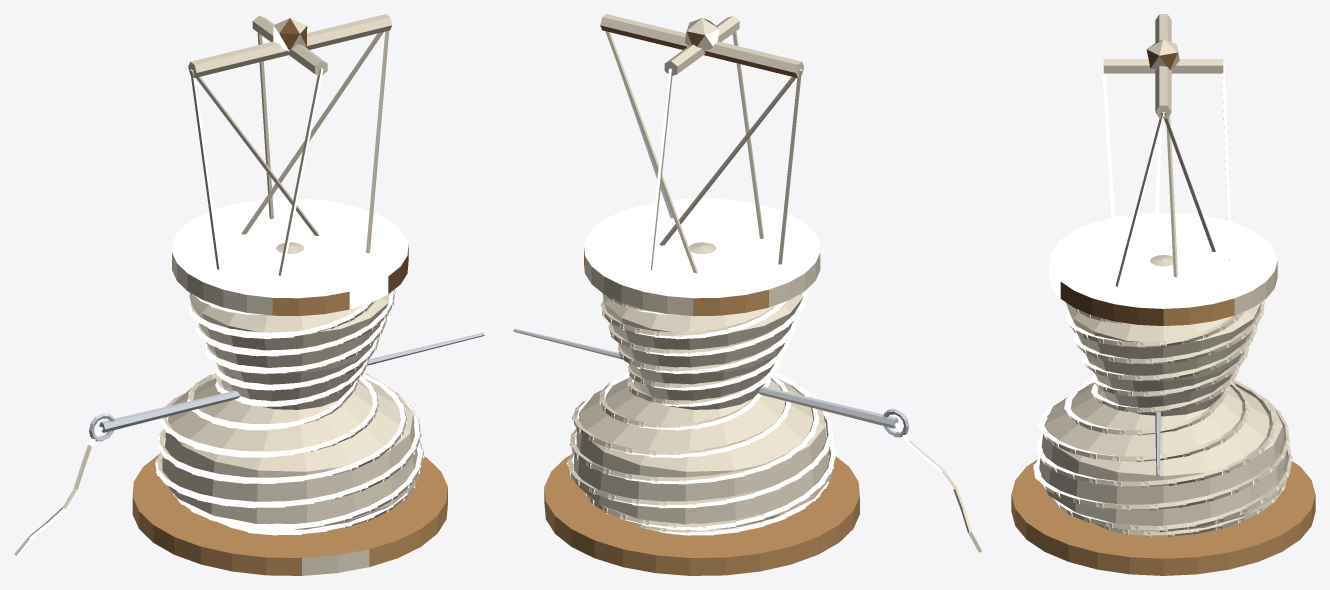
File: fruto-fios.glb
3 views of the same model, side by side, from view 1: azimuth 30°, elevation 25°; view 2: azimuth 150°, elevation 25°; view 3: azimuth 270°, elevation 25° (orthographic). The views are drawn at different scales.
Parts seen in each view (by area): view 1: Fruit_Body; view 2: Fruit_Body; view 3: Fruit_Body.
Part boxes in pixels (x1=…): Fruit_Body: x1=14, y1=14, x2=484, y2=575; Fruit_Body: x1=513, y1=14, x2=982, y2=575; Fruit_Body: x1=1011, y1=14, x2=1315, y2=575.
Size of the model in its own units: 1.92 by 1.93 by 1.12.
